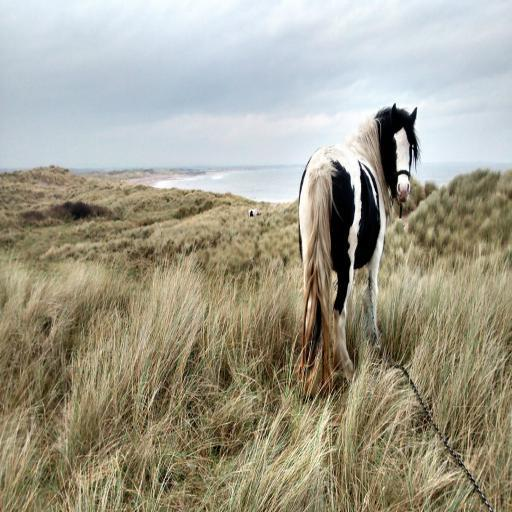horse: (295, 108, 419, 398)
